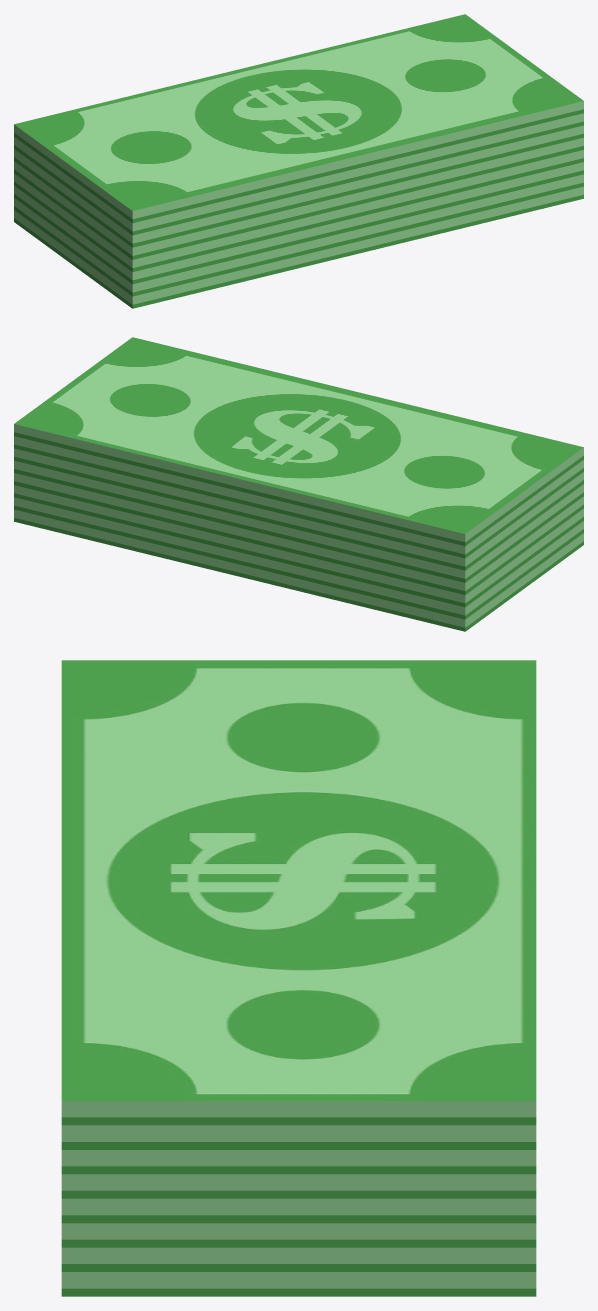
File: money.fbx
3 renders of one model, top to bottom at view 1: azimuth 30°, elevation 25°; view 2: azimuth 150°, elevation 25°; view 3: azimuth 270°, elevation 25°, orthographic. The views are drawn at different scales.
Parts seen in each view (by area): view 1: Cube.003; view 2: Cube.003; view 3: Cube.003.
Boxes of the visible parts, x1=… form: Cube.003: x1=14, y1=14, x2=583, y2=308; Cube.003: x1=14, y1=337, x2=583, y2=631; Cube.003: x1=61, y1=660, x2=536, y2=1296.
Size of the model in its own units: 67.08 by 13.88 by 30.53.
